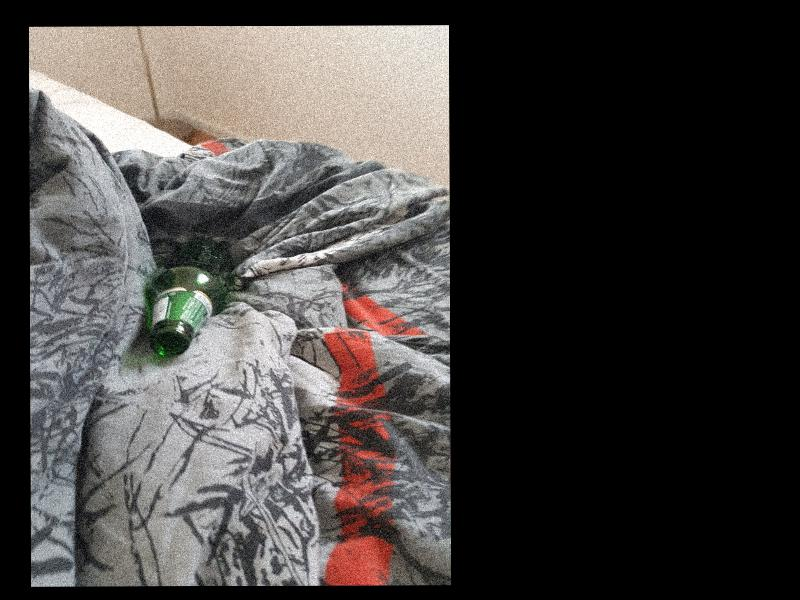Beer: (145, 238, 232, 357)
